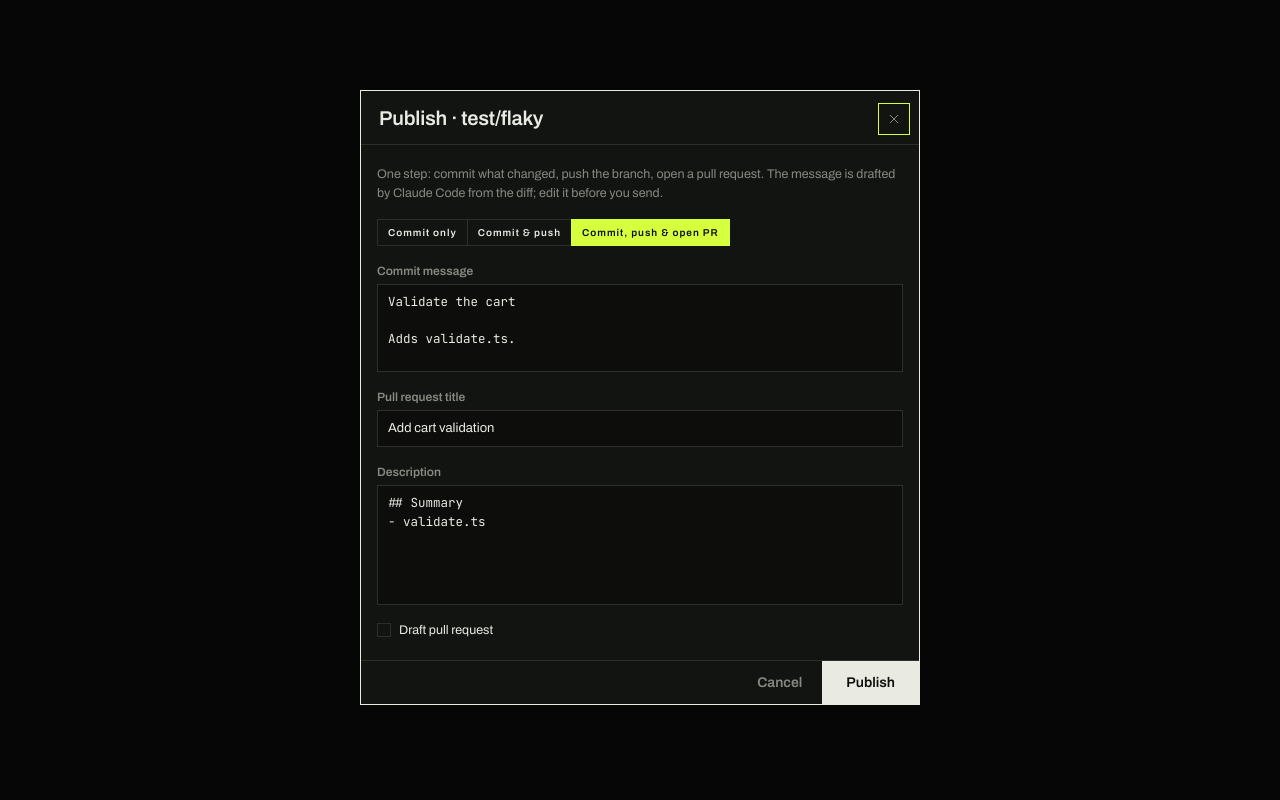
Test: PublishModal › a failing step stops the run and says which step failed
This screenshot has width=1280, height=800.
Expected: the text box labelled "Commit message" is not empty, [377,284,903,372]
Click the button "Publish" at (871, 682), box [822,661,919,704]
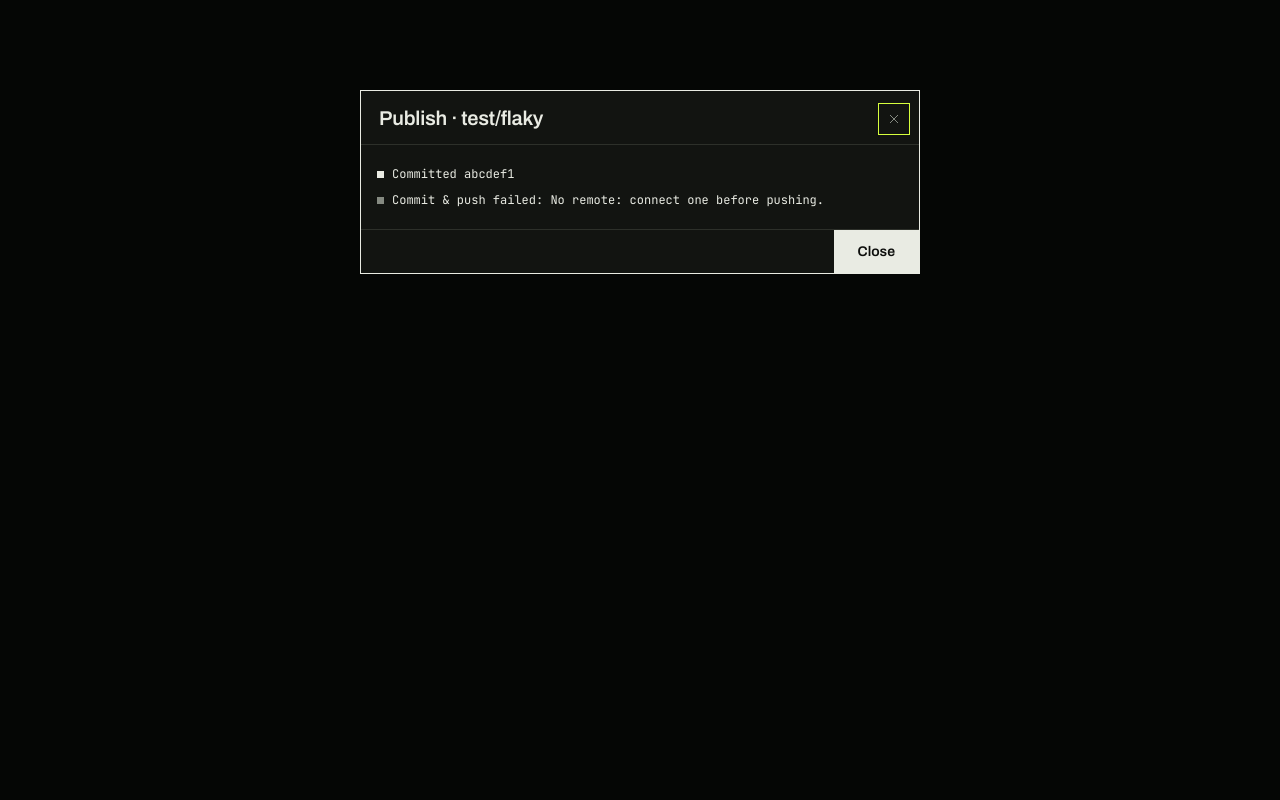
Expected: the button named "Publish" is shown, [834,230,919,273]
Now the message reads "Commit & push failed: No remote: connect one before pushing.", box [392,192,824,208]
Now the radio button labelled "open PR" is gone
